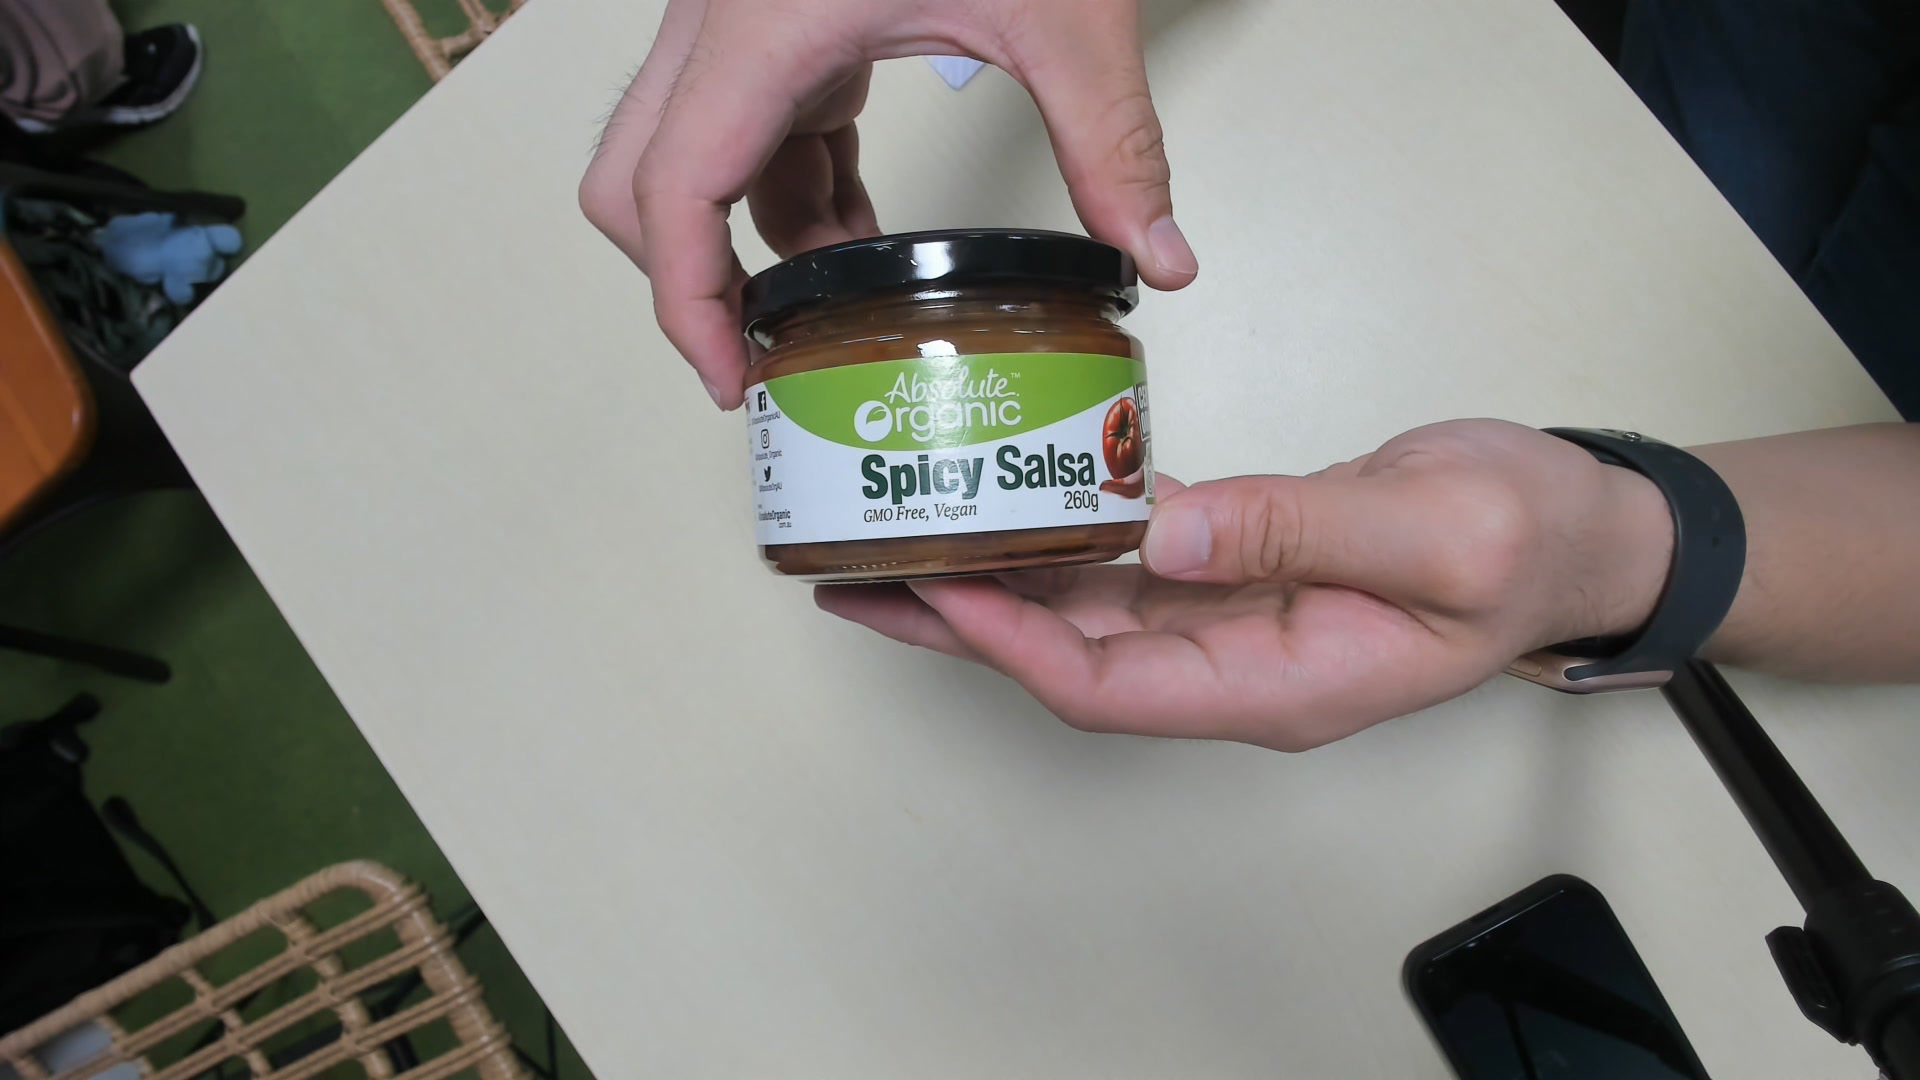OtherSauceDressing_200-299g_NonHalal_NonHealthy: (736, 231, 1155, 578)
